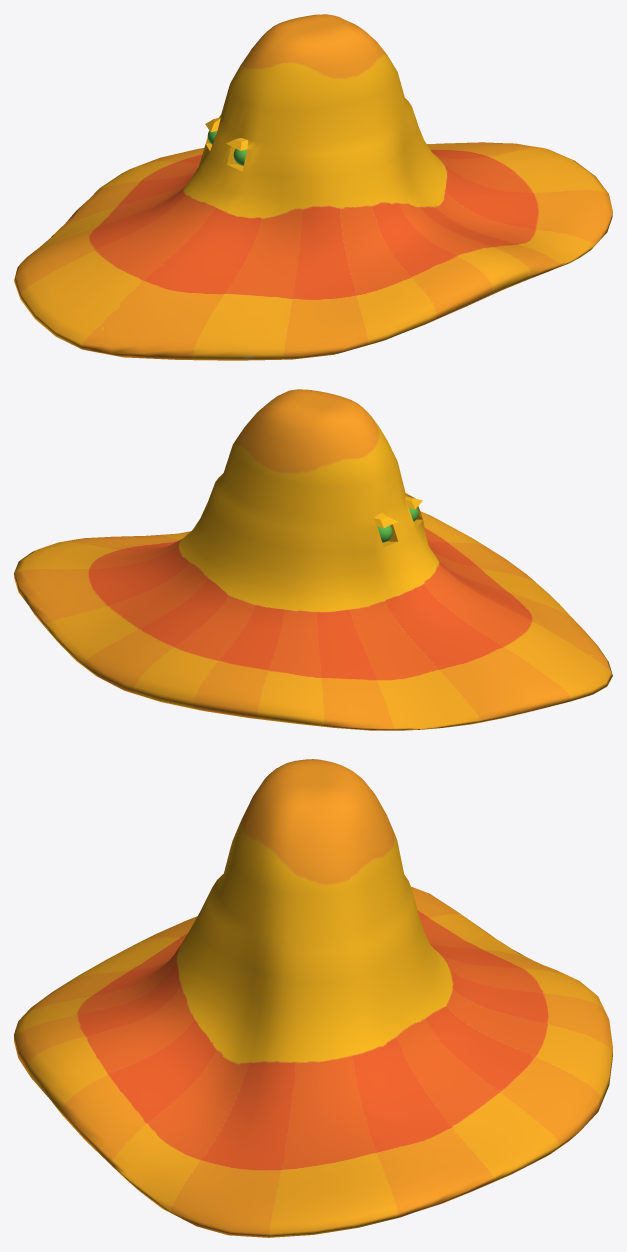
Rendered from species_07.fbx.
The picture shows the model from 3 angles, top to bottom: view 1: azimuth 30°, elevation 25°; view 2: azimuth 150°, elevation 25°; view 3: azimuth 270°, elevation 25°; orthographic projection. The views are drawn at different scales.
Parts seen in each view (by area): view 1: slimy; view 2: slimy; view 3: slimy.
Part boxes in pixels (left/top/right/bottom): slimy: left=14, top=14, right=612, bottom=360; slimy: left=14, top=389, right=612, bottom=730; slimy: left=14, top=759, right=612, bottom=1237.
Bounding box in the file's own units: 2.89 × 1.19 × 2.12.
1 material, 1 textured.
